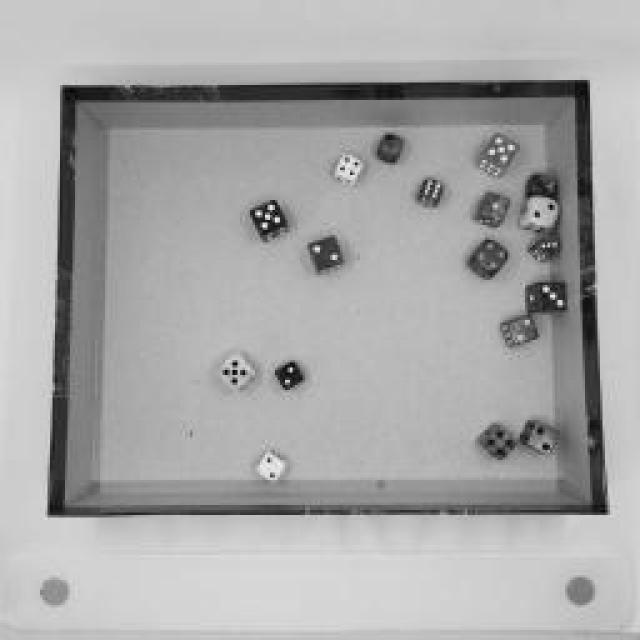dice_1: (474, 191, 511, 234), (376, 132, 409, 168)
dice_2: (515, 195, 563, 235), (308, 234, 348, 278), (518, 418, 562, 458), (498, 314, 544, 348), (252, 449, 292, 486), (274, 360, 306, 395)
dice_3: (524, 279, 571, 319), (528, 233, 562, 265)
dice_4: (465, 238, 513, 282), (476, 421, 519, 464), (332, 154, 366, 191)
dice_5: (472, 131, 522, 184), (214, 350, 261, 395), (248, 199, 292, 246), (525, 175, 557, 203)
dice_6: (416, 178, 446, 210)
